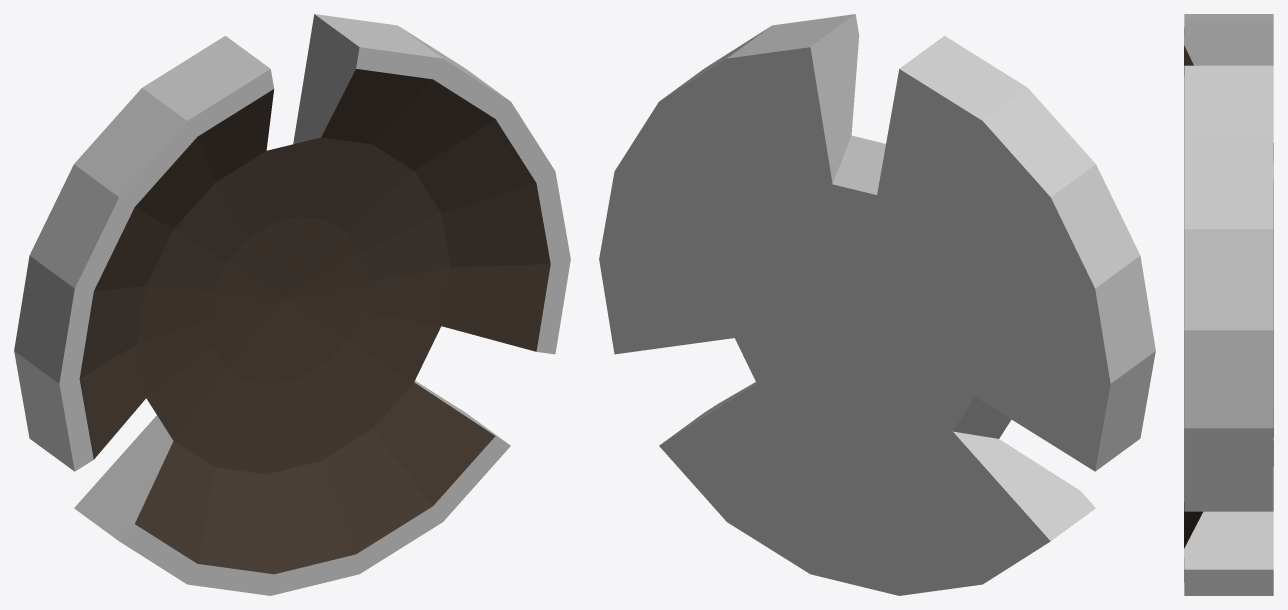
Rendered from EVT_ADDON_NW_TROLLPORTAL_PORTAL_01.OBJ.
3 views of the same model, side by side, from view 1: azimuth 30°, elevation 25°; view 2: azimuth 150°, elevation 25°; view 3: azimuth 270°, elevation 25° (orthographic).
Visible parts, largest first — view 1: EVT_ADDON_NW_TROLLPORTAL_PORTAL_01; view 2: EVT_ADDON_NW_TROLLPORTAL_PORTAL_01; view 3: EVT_ADDON_NW_TROLLPORTAL_PORTAL_01.
Part boxes in pixels (x1,y1,x2,y2): EVT_ADDON_NW_TROLLPORTAL_PORTAL_01: (14, 14, 570, 595); EVT_ADDON_NW_TROLLPORTAL_PORTAL_01: (599, 14, 1155, 595); EVT_ADDON_NW_TROLLPORTAL_PORTAL_01: (1184, 14, 1273, 595).
Size of the model in its own units: 2.57 by 2.53 by 0.3953.
